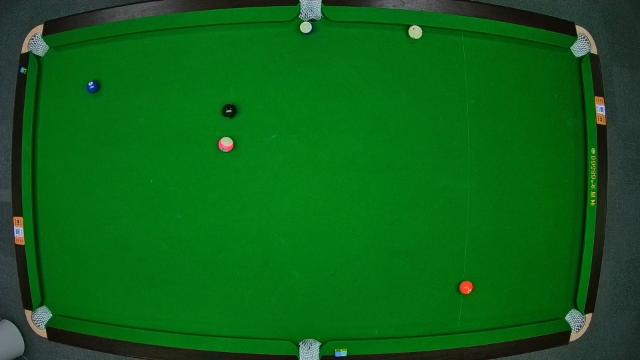bag1: (28, 34, 46, 54)
bag2: (300, 1, 322, 22)
bag3: (572, 34, 590, 56)
bag4: (34, 306, 50, 328)
bag5: (300, 342, 320, 360)
bag6: (567, 310, 585, 332)
ball0: (408, 25, 424, 41)
ball10: (298, 21, 314, 35)
ball12: (218, 136, 235, 154)
ball2: (87, 80, 103, 94)
ball5: (460, 281, 474, 297)
ball8: (222, 103, 238, 119)
